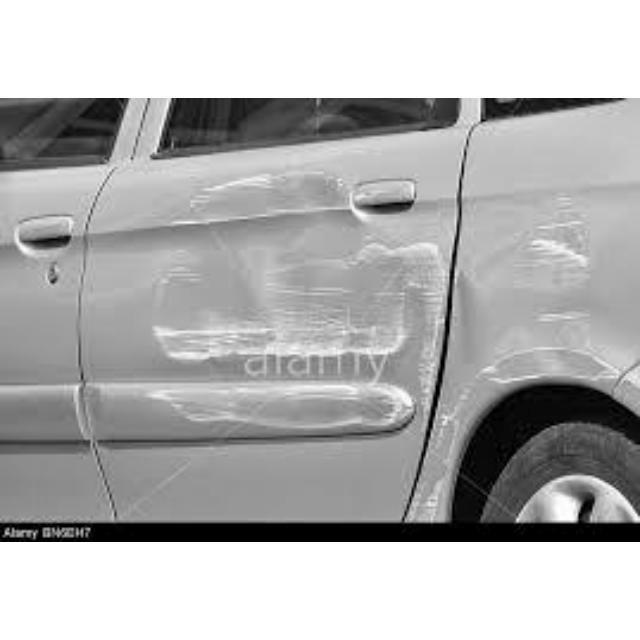doorouter-dent: (112, 150, 464, 464)
quaterpanel-dent: (468, 180, 640, 401)
